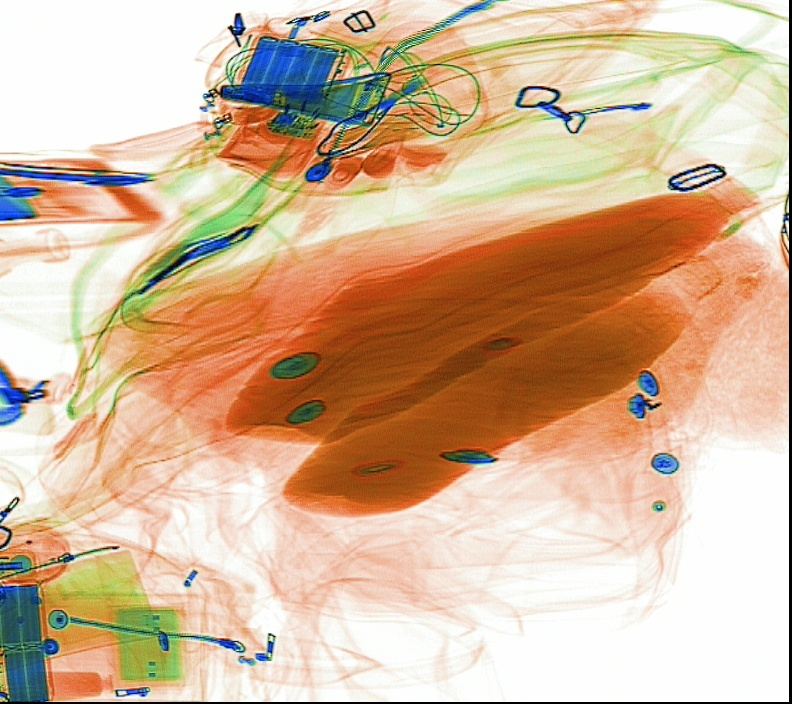powerbank: (219, 30, 352, 114), (1, 575, 69, 700)
